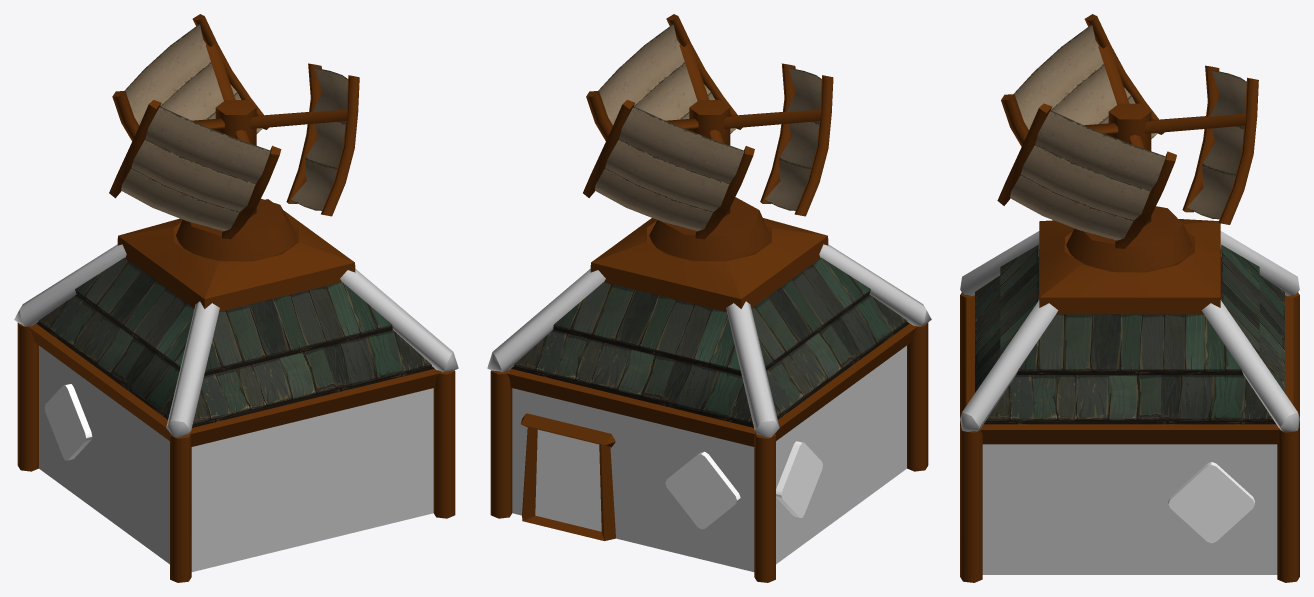
Rendered from Inventor.IronTeeth.fbx.
The picture shows the model from 3 angles, left to right: view 1: azimuth 30°, elevation 25°; view 2: azimuth 150°, elevation 25°; view 3: azimuth 270°, elevation 25°; orthographic projection. The views are drawn at different scales.
Visible parts, largest first — view 1: Inventor_IronTeeth, _SpiralAnimated_004; view 2: Inventor_IronTeeth, _SpiralAnimated_004; view 3: Inventor_IronTeeth, _SpiralAnimated_004.
Boxes of the visible parts, x1=… form: Inventor_IronTeeth: x1=14, y1=199, x2=458, y2=582; _SpiralAnimated_004: x1=109, y1=14, x2=359, y2=261; Inventor_IronTeeth: x1=487, y1=218, x2=931, y2=582; _SpiralAnimated_004: x1=583, y1=14, x2=833, y2=260; Inventor_IronTeeth: x1=960, y1=219, x2=1299, y2=582; _SpiralAnimated_004: x1=997, y1=14, x2=1258, y2=271.
Bounding box in the file's own units: 210 × 300 × 208.
